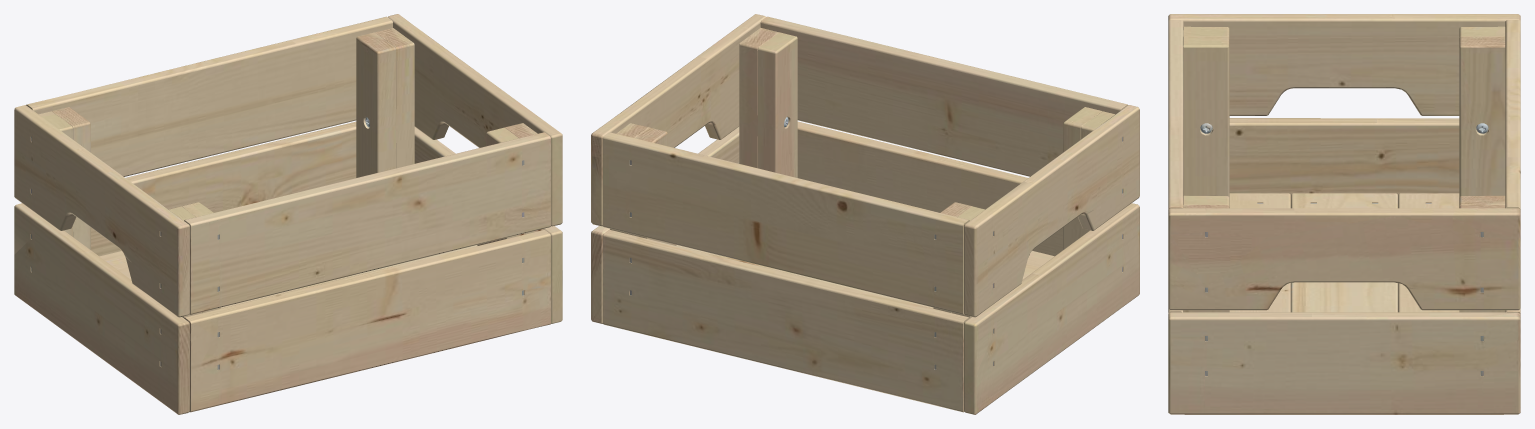
Rendered from knagglig_pudeko_10292357.glb.
3 views of the same model, side by side, from view 1: azimuth 30°, elevation 25°; view 2: azimuth 150°, elevation 25°; view 3: azimuth 270°, elevation 25° (orthographic). The views are drawn at different scales.
Visible parts, largest first — view 1: knagglig_pudeko_10292357; view 2: knagglig_pudeko_10292357; view 3: knagglig_pudeko_10292357.
Boxes of the visible parts, x1,y1,x2,y2 form: knagglig_pudeko_10292357: [14, 14, 562, 414]; knagglig_pudeko_10292357: [591, 14, 1139, 414]; knagglig_pudeko_10292357: [1168, 14, 1520, 414].
Bounding box in the file's own units: 0.31 × 0.15 × 0.23.
1 material, 1 textured.
